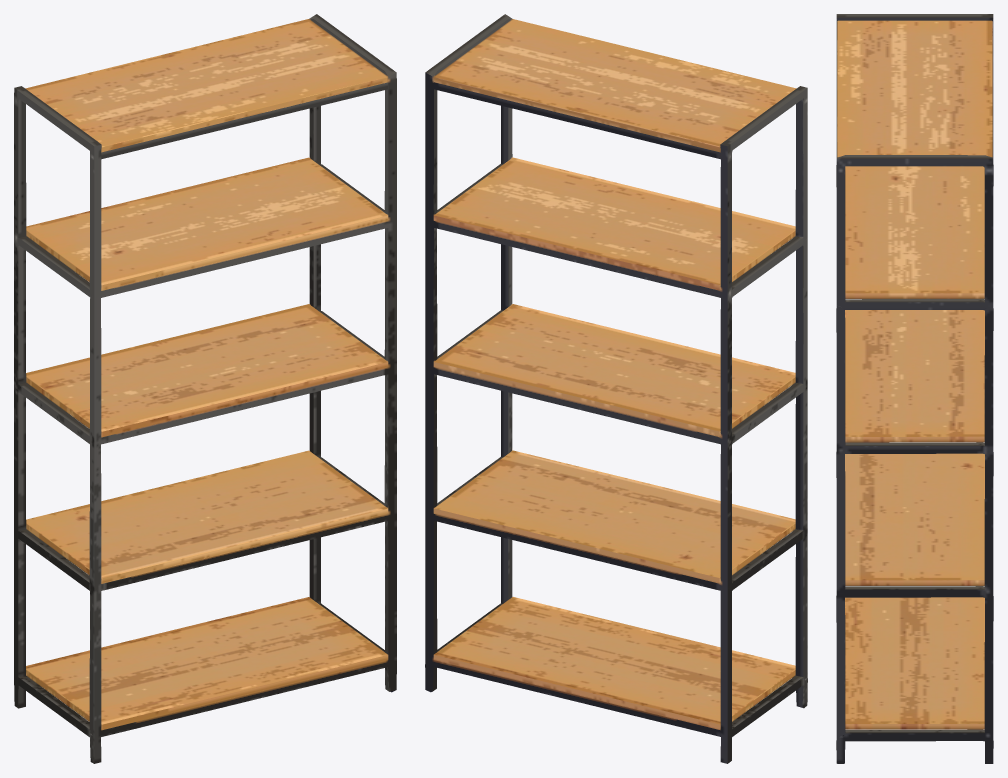
The model's file is steel_frame_shelves_01.glb.
3 renders of one model, left to right at view 1: azimuth 30°, elevation 25°; view 2: azimuth 150°, elevation 25°; view 3: azimuth 270°, elevation 25°, orthographic. The views are drawn at different scales.
Visible parts, largest first — view 1: mesh; view 2: mesh; view 3: mesh.
Part boxes in pixels (box(x1,y1,x2,y2)): mesh: box(14, 14, 396, 763); mesh: box(425, 14, 807, 763); mesh: box(836, 14, 993, 763).
Bounding box in the file's own units: 1.1 × 2.14 × 0.5017.
Materials: 1 (1 with a texture image).
